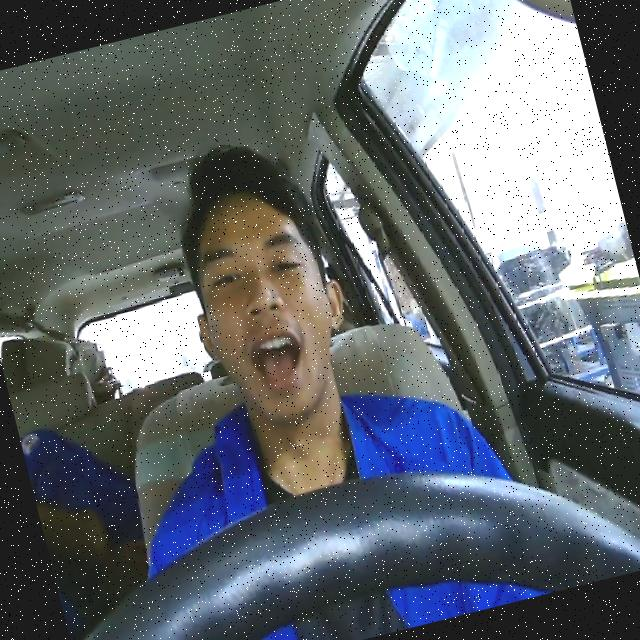yarning: (165, 170, 368, 438)
